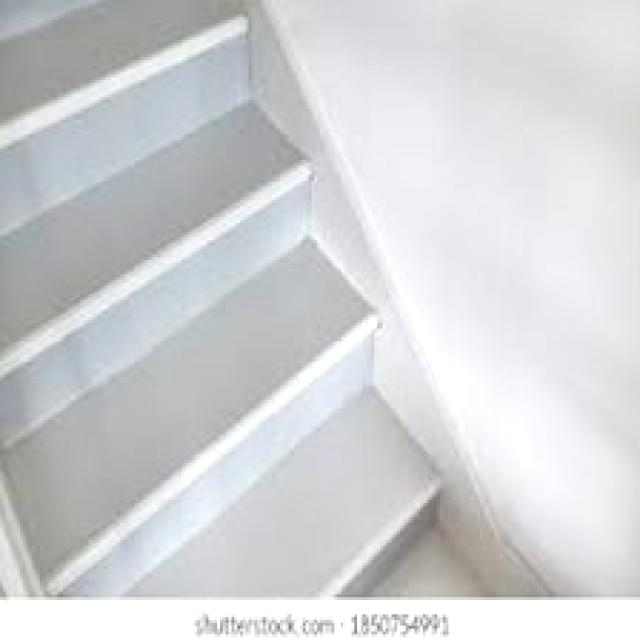upstair: (30, 101, 407, 521)
